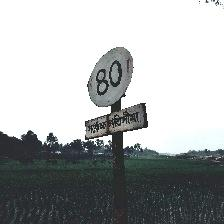Speed-limit: (84, 46, 147, 140)
